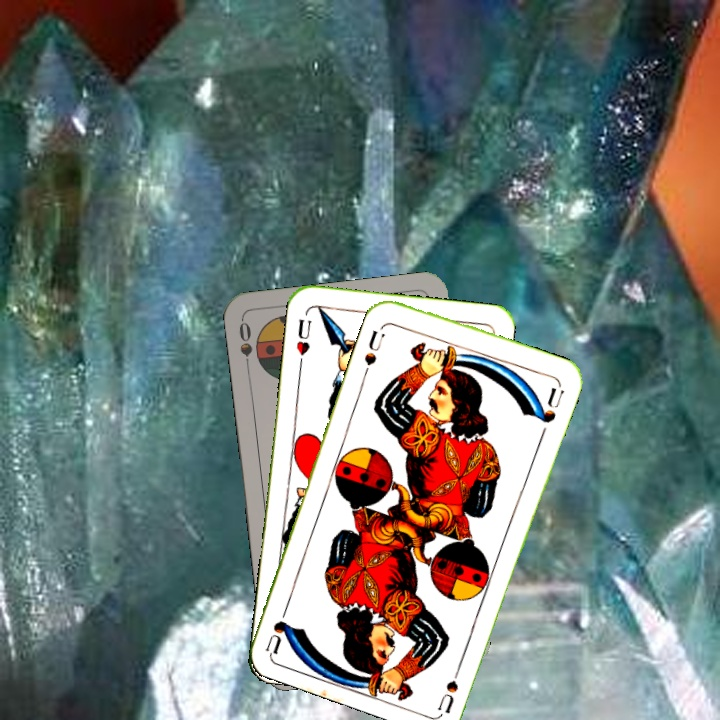HU: (292, 314, 314, 368)
SO: (235, 317, 255, 376)
SU: (434, 655, 466, 714), (360, 326, 387, 368)
